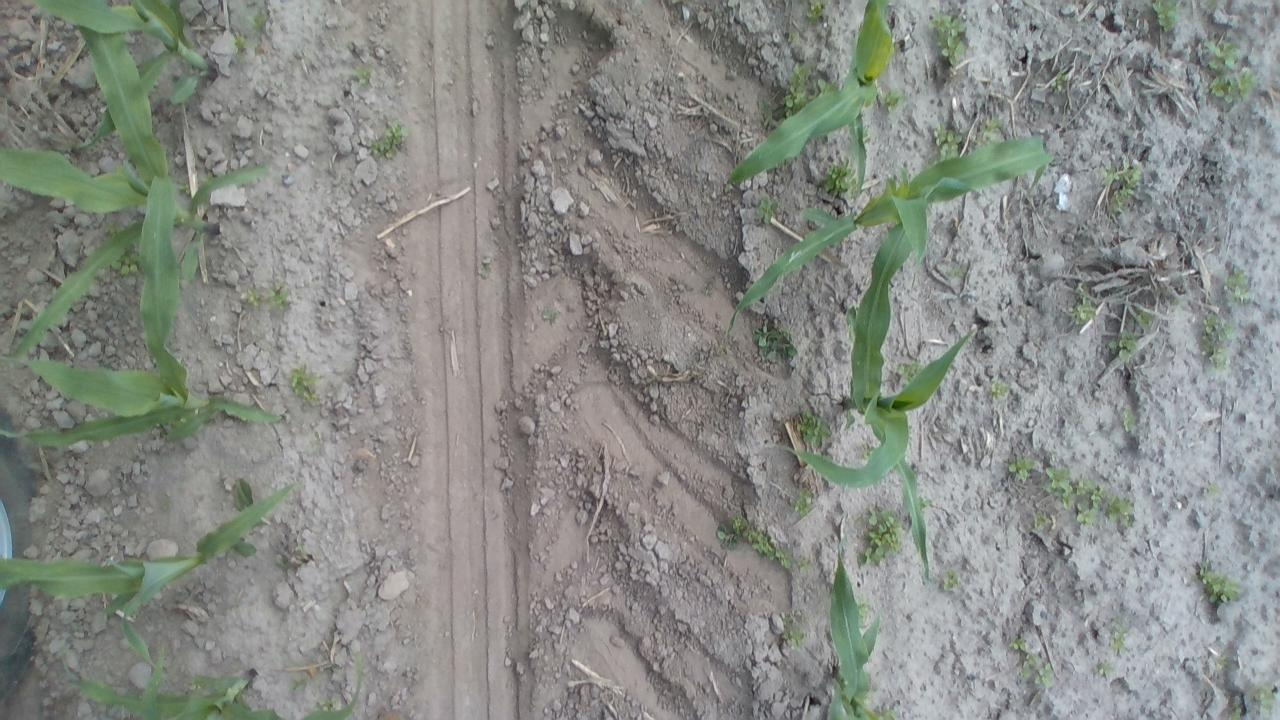Maize: (0, 9, 274, 358), (779, 175, 986, 588), (722, 132, 1058, 342), (2, 206, 288, 450), (0, 474, 308, 681), (722, 0, 902, 194), (23, 0, 230, 153), (56, 628, 372, 719), (821, 529, 902, 720)
Weeds: (1200, 33, 1264, 108), (719, 513, 797, 574), (1049, 470, 1119, 528), (858, 506, 904, 570), (926, 8, 970, 67), (1200, 310, 1240, 373), (1006, 636, 1054, 688), (1193, 560, 1243, 608), (1101, 157, 1145, 211), (750, 322, 800, 363), (366, 118, 409, 160), (822, 159, 862, 202), (269, 541, 316, 575), (795, 407, 833, 448), (781, 65, 810, 118), (241, 281, 293, 309), (288, 364, 322, 406), (1102, 490, 1138, 528), (1222, 268, 1254, 310), (779, 608, 810, 650), (1068, 286, 1098, 326), (930, 122, 961, 160), (1150, 1, 1184, 34), (1106, 618, 1132, 659), (1005, 452, 1038, 484), (1109, 330, 1141, 360), (348, 59, 380, 87), (1250, 680, 1276, 714), (756, 192, 781, 226), (880, 86, 909, 115), (790, 489, 816, 520), (756, 94, 780, 127), (225, 30, 255, 56), (1126, 306, 1156, 332), (108, 252, 140, 276), (245, 7, 271, 35), (979, 115, 1004, 144), (986, 377, 1013, 403), (801, 1, 830, 25), (938, 568, 963, 594), (1030, 508, 1056, 532), (896, 359, 924, 380), (308, 697, 342, 714), (474, 254, 496, 280), (538, 304, 562, 327), (944, 262, 969, 284), (1092, 657, 1118, 678), (1119, 408, 1138, 435), (857, 592, 869, 631), (1050, 70, 1070, 92), (1214, 655, 1236, 674), (1225, 698, 1245, 718), (288, 673, 307, 693), (859, 440, 874, 462), (784, 30, 804, 46), (1202, 483, 1222, 498), (702, 280, 718, 298), (877, 708, 902, 719), (918, 494, 932, 510), (185, 679, 202, 692), (715, 343, 730, 357)
